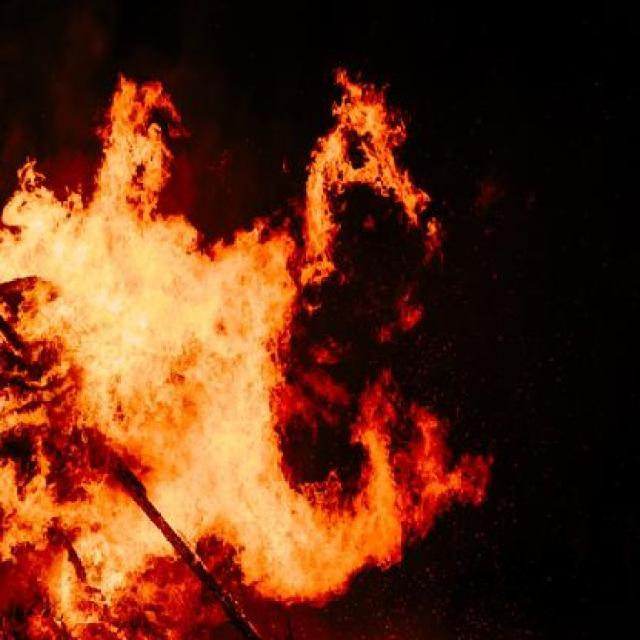Fire: (2, 54, 490, 640)
